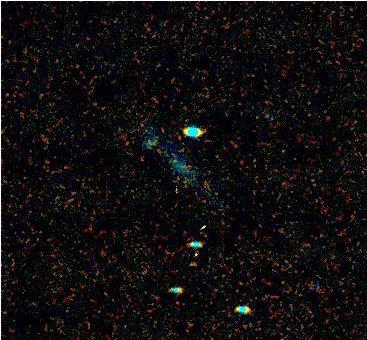star: (178, 249, 208, 279)
